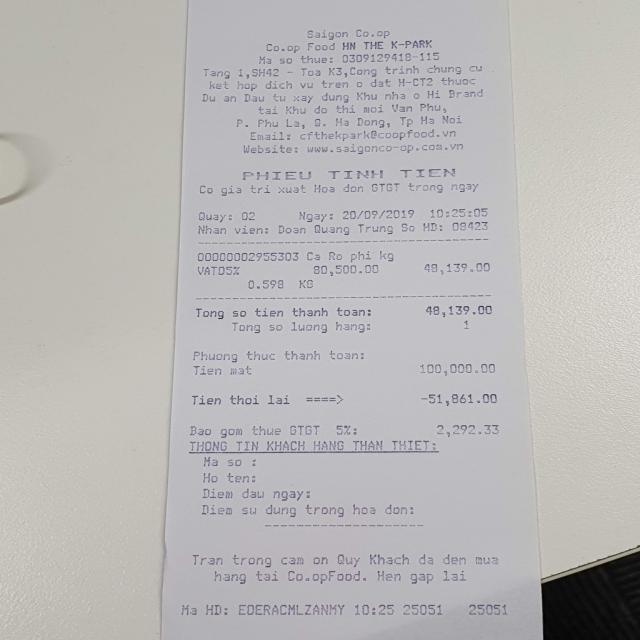Date: (339, 207, 418, 221)
Store_Name: (304, 27, 394, 39)
amount_number: (425, 302, 498, 318)
label_total: (191, 302, 368, 320)
